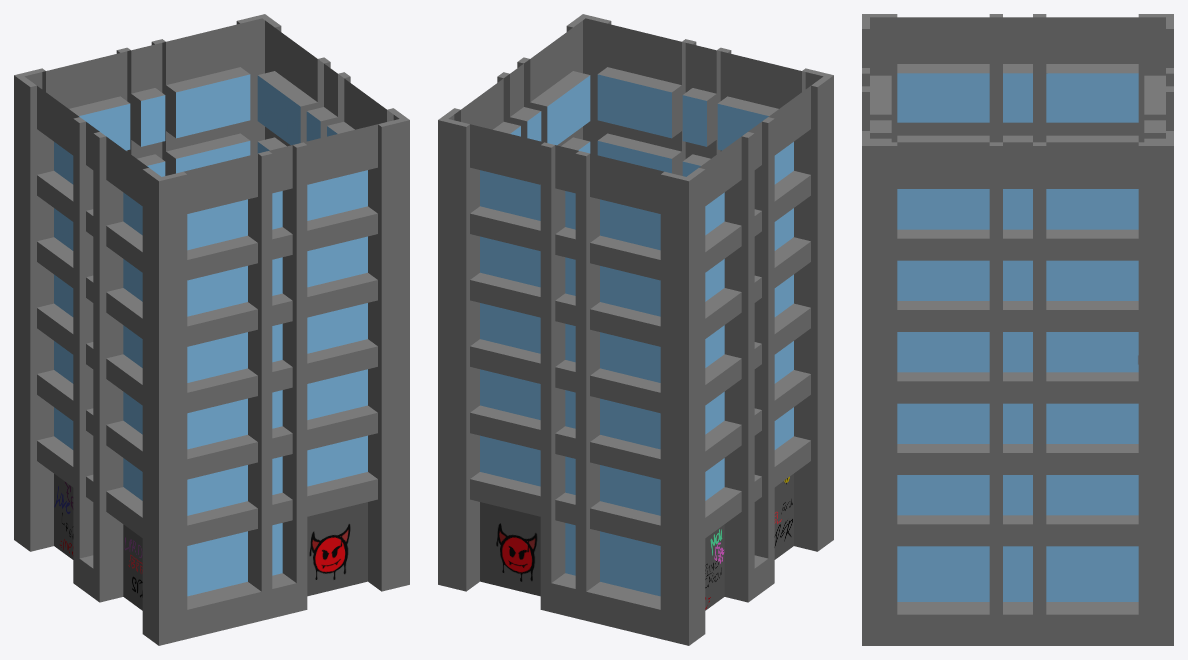
File: Rascacielos_Garaje.fbx
The picture shows the model from 3 angles, left to right: view 1: azimuth 30°, elevation 25°; view 2: azimuth 150°, elevation 25°; view 3: azimuth 270°, elevation 25°; orthographic projection. The views are drawn at different scales.
Parts seen in each view (by area): view 1: Cubo.008; view 2: Cubo.008; view 3: Cubo.008.
Part boxes in pixels (x1,y1,x2,y2): Cubo.008: (14,14,409,645); Cubo.008: (438,14,833,645); Cubo.008: (862,14,1173,645).
Size of the model in its own units: 4423 by 7825 by 4423.
1 material, 1 textured.
